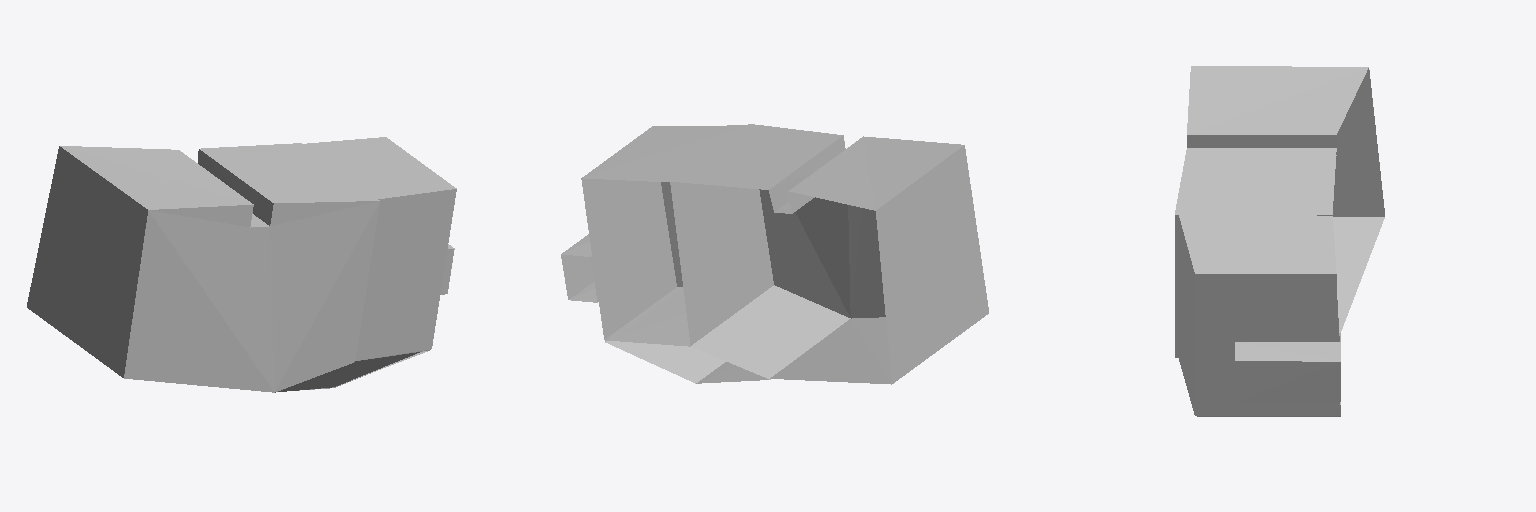
3 views of the same model, side by side, from view 1: azimuth 30°, elevation 25°; view 2: azimuth 150°, elevation 25°; view 3: azimuth 270°, elevation 25° (orthographic).
Parts seen in each view (by area): view 1: [number redacted], [number redacted], [number redacted]; view 2: [number redacted], [number redacted], [number redacted], [number redacted]; view 3: [number redacted], [number redacted], [number redacted].
Boxes of the visible parts, <box> form: [number redacted]: <box>27,143,379,392</box>; [number redacted]: <box>303,137,456,360</box>; [number redacted]: <box>275,349,430,392</box>; [number redacted]: <box>670,124,988,384</box>; [number redacted]: <box>581,125,746,346</box>; [number redacted]: <box>605,289,770,383</box>; [number redacted]: <box>561,234,598,302</box>; [number redacted]: <box>1175,66,1384,357</box>; [number redacted]: <box>1179,215,1340,415</box>; [number redacted]: <box>1235,342,1340,401</box>.
Bounding box in the file's own units: 50.38 × 31.5 × 26.